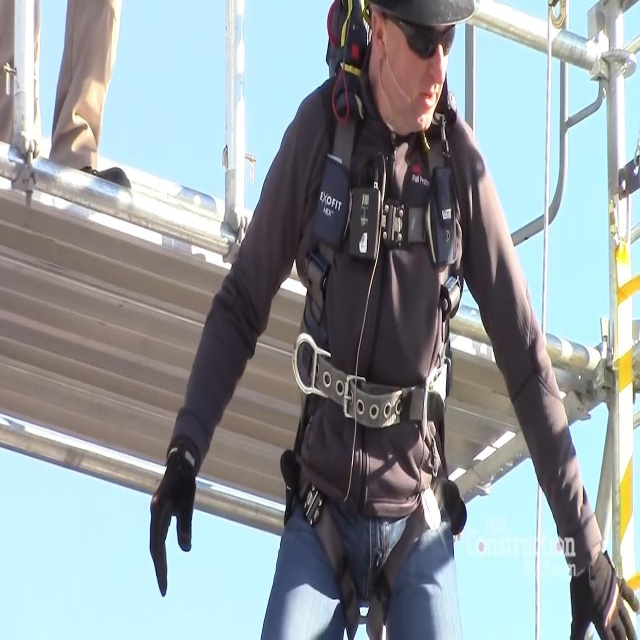Arnes_seguridad: (282, 0, 481, 640)
